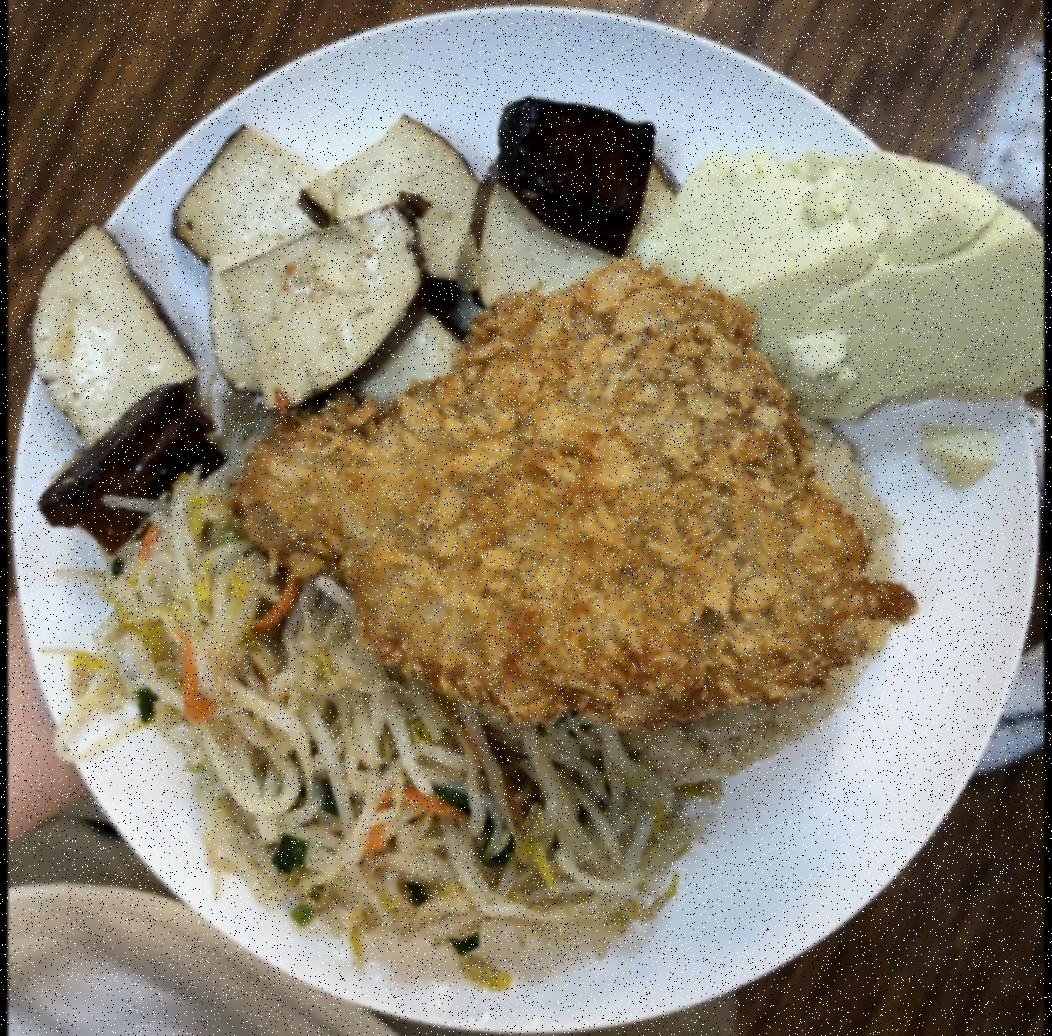big fried chicken leg: (18, 0, 1041, 1028)
box: (598, 404, 894, 784)
braised fish fillet: (58, 501, 702, 993), (28, 91, 674, 524), (646, 141, 1042, 441)
braised pork: (244, 275, 858, 701)
